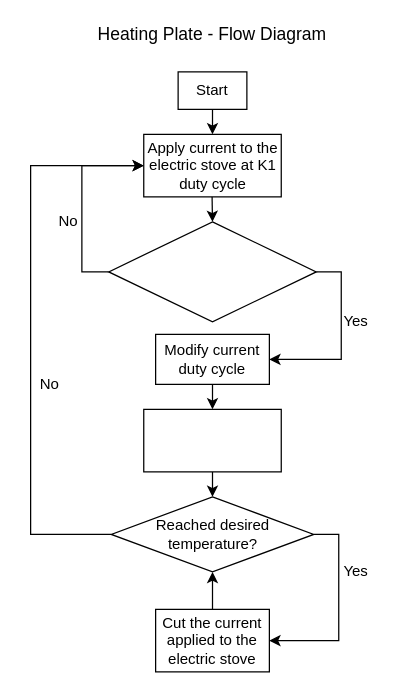
The diagram is 396 pixels wide and 694 high, and some of its shapes have lost their labels. Each missing label, with the centre of its shape:
"Apply current to the electric stove at K1*K2 duty cycle" goes at point 211,440.
"Reached feedback loop temperature?" goes at point 212,271.
